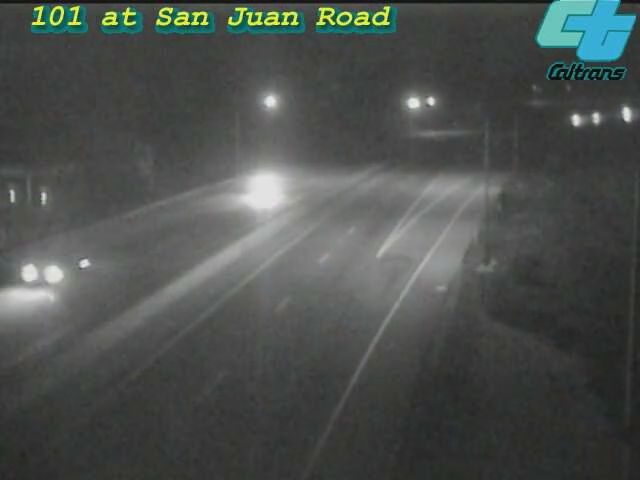vehicle: (13, 227, 93, 307), (236, 144, 316, 224), (569, 92, 619, 142), (545, 96, 595, 146), (600, 90, 640, 140)
